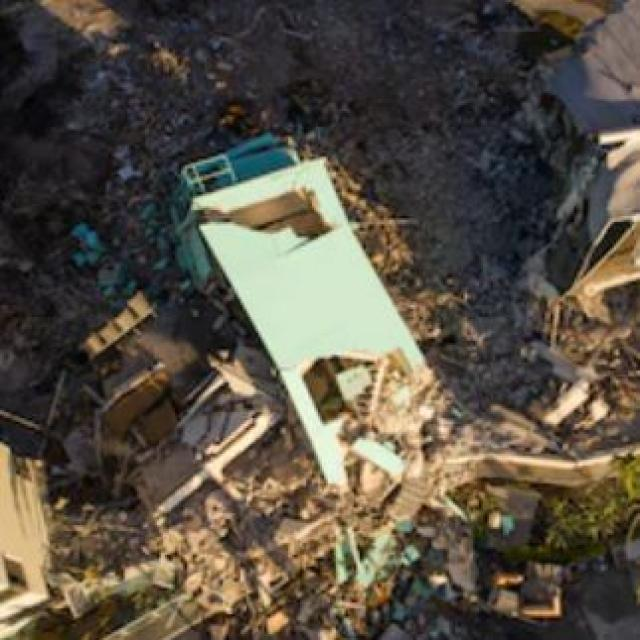collapsed_building: (157, 123, 459, 592)
